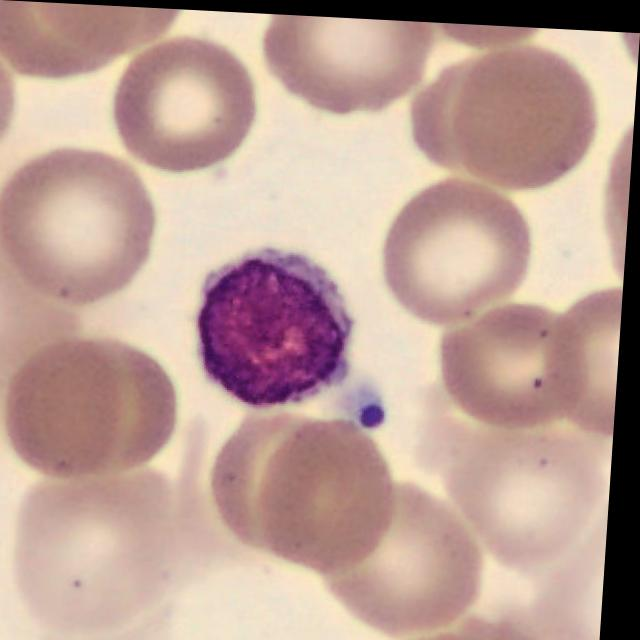Linfocito: (204, 247, 354, 401)
